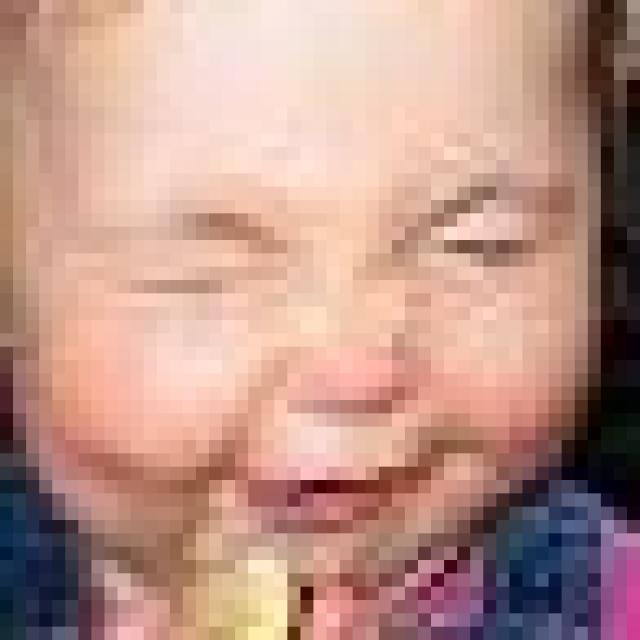Eyeclosed: (106, 242, 255, 314), (432, 219, 529, 276)
